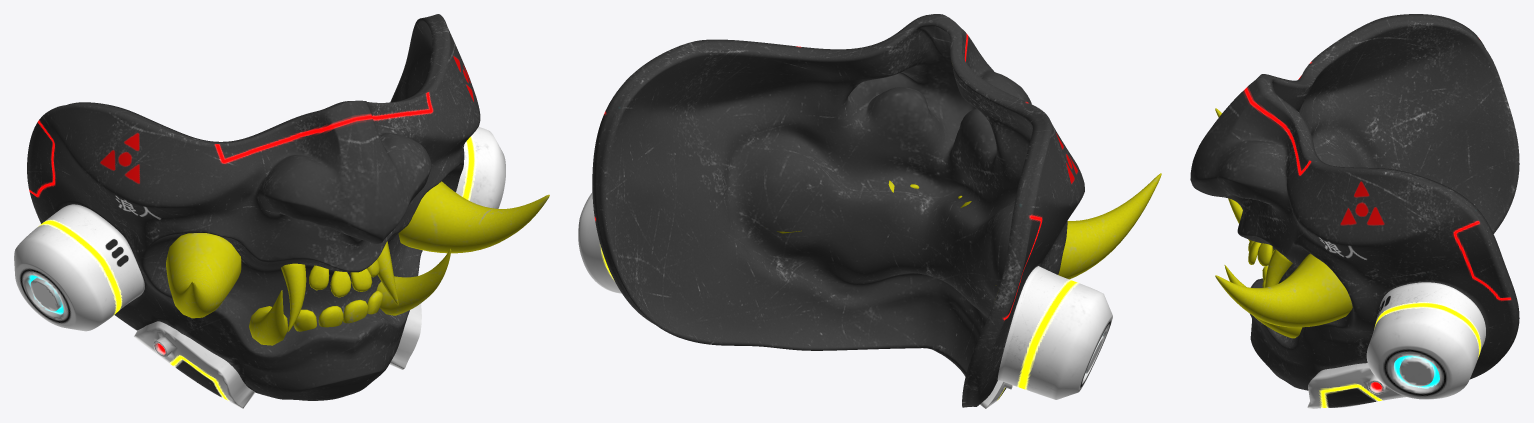
The model's file is cyberpunk_samurai_mask.glb.
3 renders of one model, left to right at view 1: azimuth 30°, elevation 25°; view 2: azimuth 150°, elevation 25°; view 3: azimuth 270°, elevation 25°, orthographic. The views are drawn at different scales.
Visible parts, largest first — view 1: Object_2, Object_3; view 2: Object_2, Object_3; view 3: Object_2, Object_3.
Boxes of the visible parts, x1,y1,x2,y2 form: Object_2: (14, 14, 505, 408); Object_3: (166, 181, 549, 345); Object_2: (578, 14, 1112, 408); Object_3: (777, 173, 1161, 279); Object_2: (1190, 14, 1519, 408); Object_3: (1215, 108, 1352, 338).
Size of the model in its own units: 11.61 by 7.18 by 7.28.
Materials: 1 (1 with a texture image).
